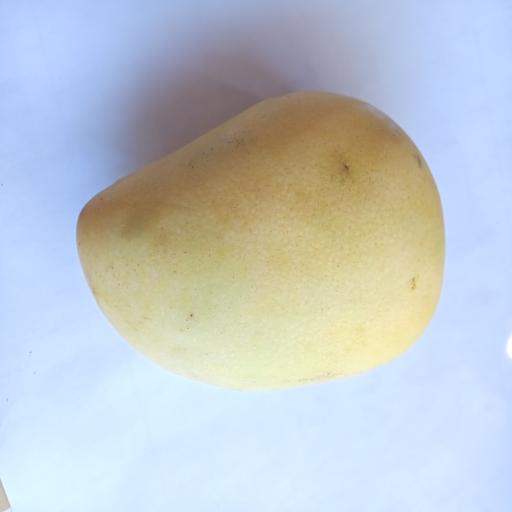mango-ripe: (62, 71, 466, 399)
